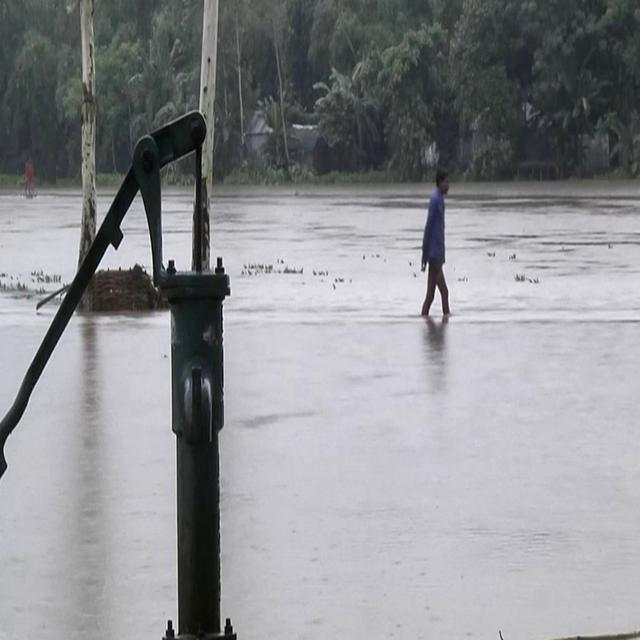Person-RiskLevel2: (410, 164, 468, 322)
